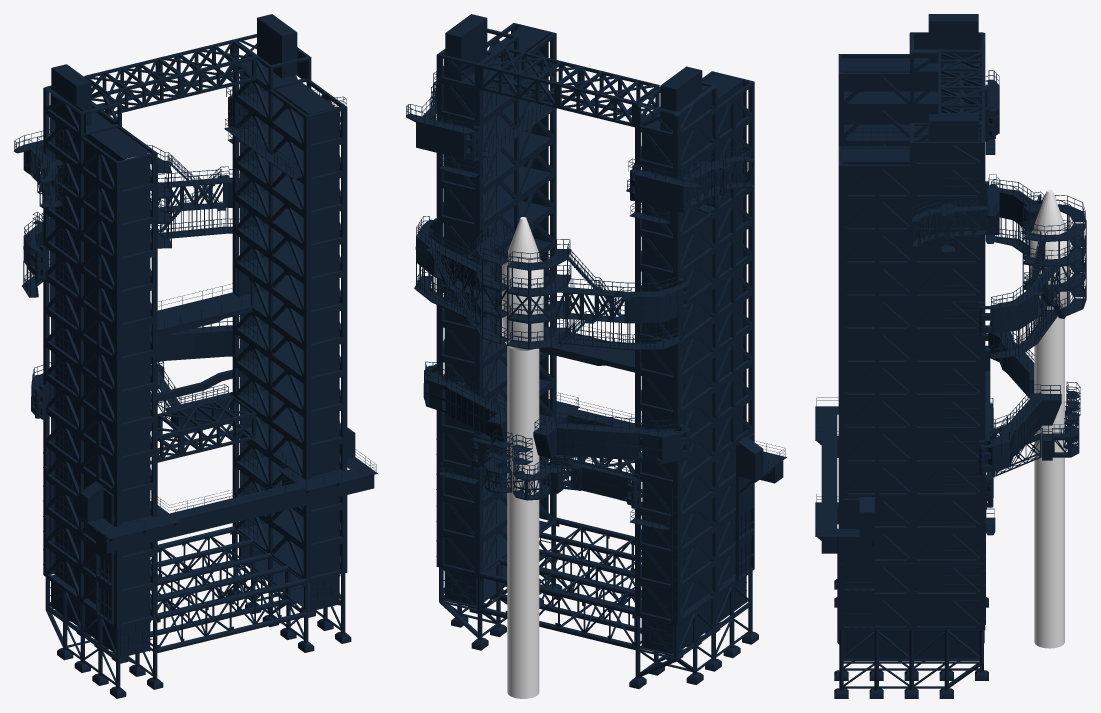
File: Plesetsk.fbx
3 views of the same model, side by side, from view 1: azimuth 30°, elevation 25°; view 2: azimuth 150°, elevation 25°; view 3: azimuth 270°, elevation 25° (orthographic). The views are drawn at different scales.
Parts seen in each view (by area): view 1: main tower, service approach left_01, service approach left_02, service right approach_00, service approach left_03, service right approach_01, service right approach_02; view 2: main tower, ANGARA A009, service right approach_01, service approach left_01, service right approach_02, service right approach_00, service right approach_03, service approach left_02, service approach left_00, service approach left_03; view 3: main tower, ANGARA A009, service approach left_01, service approach left_00, service approach left_02, service right approach_01, service approach left_03, service right approach_02, service right approach_03, service right approach_00.
Boxes of the visible parts, x1,y1,x2,y2 form: main tower: [35, 14, 377, 698]; service approach left_01: [137, 144, 239, 248]; service approach left_02: [150, 316, 239, 363]; service right approach_00: [14, 129, 62, 208]; service approach left_03: [150, 361, 232, 428]; service right approach_01: [22, 211, 49, 297]; service right approach_02: [31, 362, 50, 419]; main tower: [430, 14, 786, 688]; ANGARA A009: [502, 217, 543, 698]; service right approach_01: [507, 239, 689, 350]; service approach left_01: [414, 216, 512, 344]; service right approach_02: [533, 410, 689, 463]; service right approach_00: [628, 146, 754, 213]; service right approach_03: [512, 434, 637, 506]; service approach left_02: [423, 361, 507, 442]; service approach left_00: [406, 71, 478, 159]; service approach left_03: [471, 429, 544, 493]; main tower: [815, 14, 995, 698]; ANGARA A009: [1030, 189, 1069, 648]; service approach left_01: [979, 214, 1086, 358]; service approach left_00: [911, 174, 999, 252]; service approach left_02: [979, 384, 1061, 474]; service right approach_01: [991, 179, 1086, 297]; service approach left_03: [986, 390, 1080, 505]; service right approach_02: [985, 322, 1034, 398]; service right approach_03: [990, 381, 1080, 443]; service right approach_00: [985, 70, 999, 137].
Bounding box in the file's own units: 3405 × 6163 × 2637.
